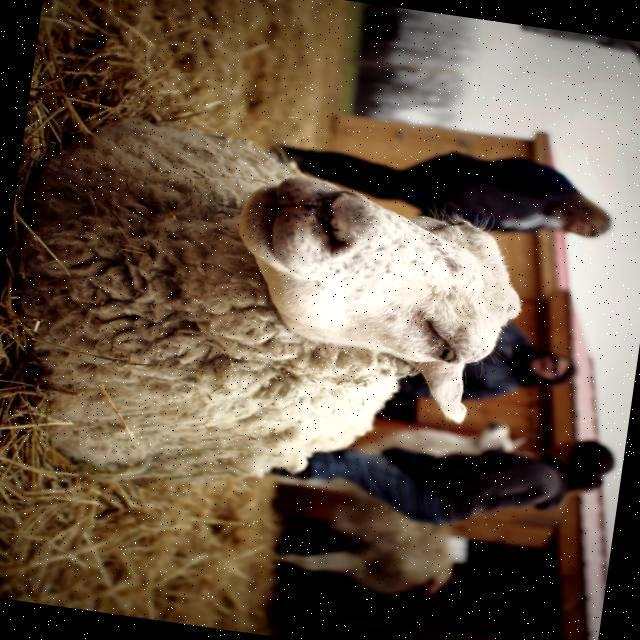sheep: (7, 121, 521, 489), (282, 426, 514, 594)
